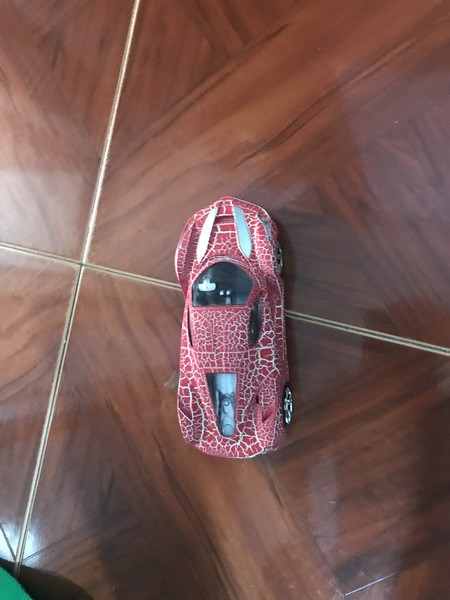RC: (172, 194, 295, 460)
